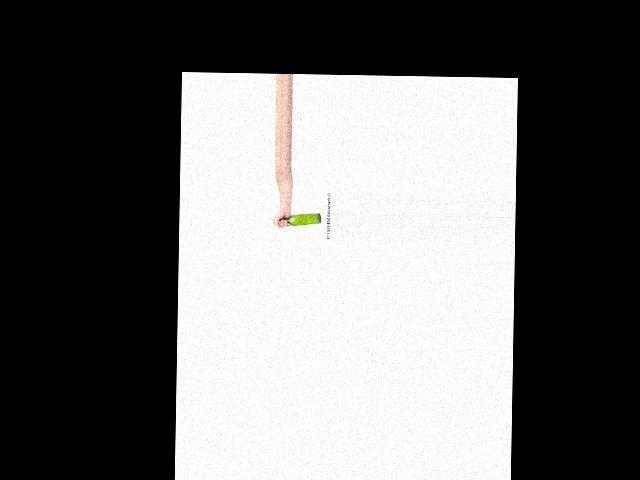beer: (273, 211, 321, 225)
